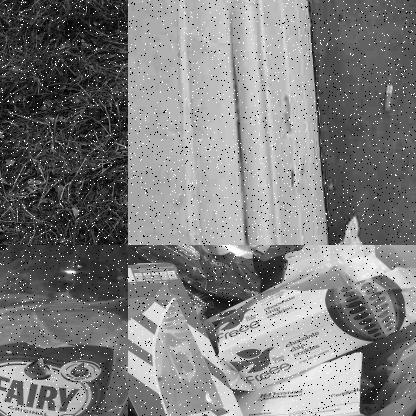cardboard: (213, 260, 415, 379), (128, 258, 253, 415)
plastic: (0, 245, 127, 415), (136, 245, 327, 274), (330, 222, 381, 244)
